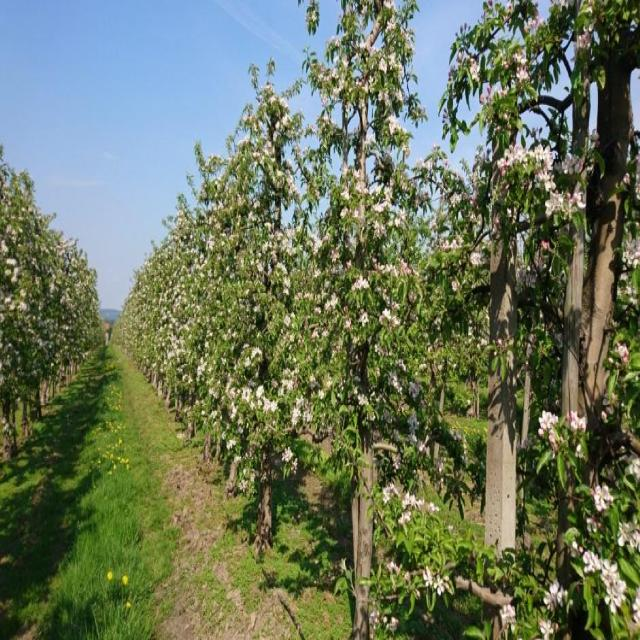row: (0, 339, 309, 640)
